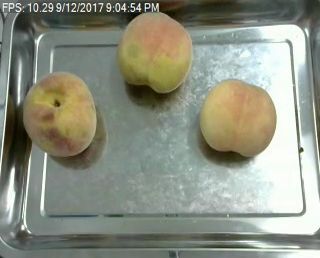Peach: (23, 71, 98, 156), (118, 10, 192, 92), (199, 80, 276, 157)
